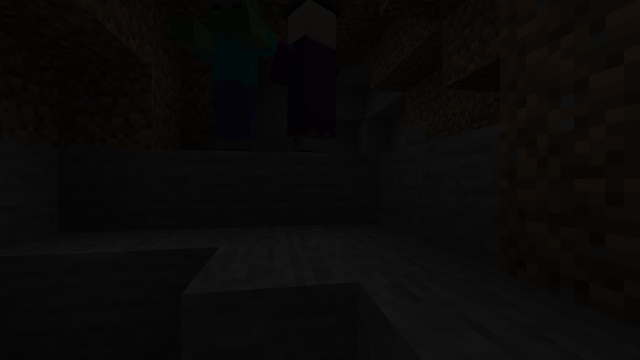sorcieres: (288, 0, 337, 154)
zombies: (205, 0, 260, 153)
